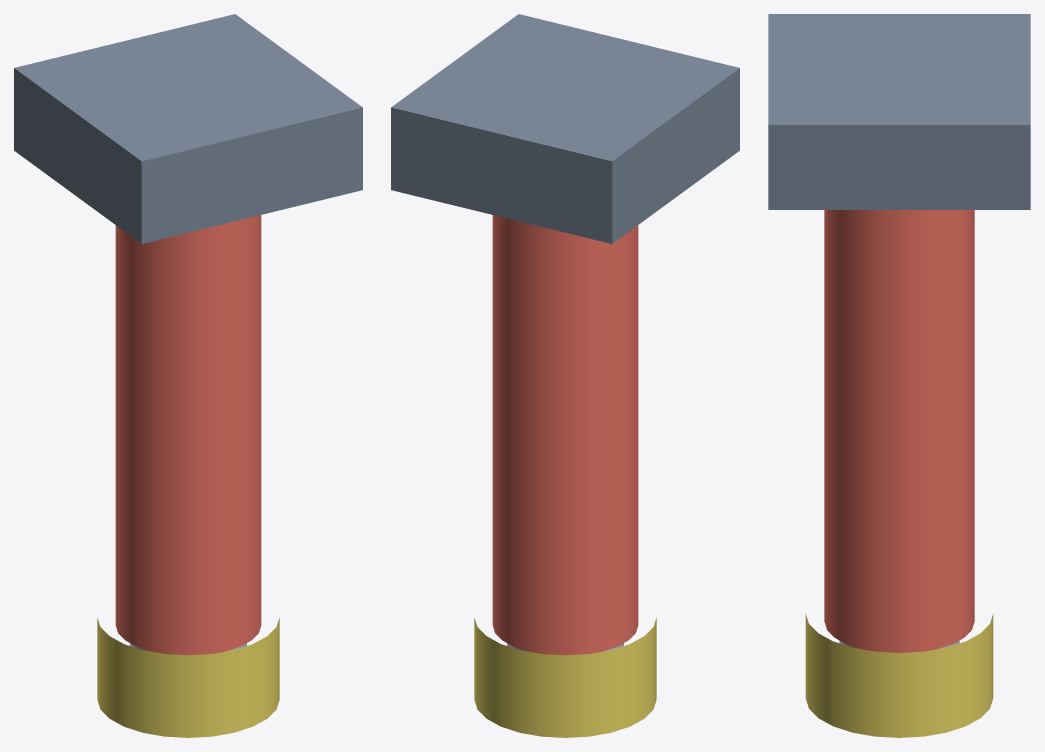
File: pile_foundation_load_capacity.glb
The picture shows the model from 3 angles, left to right: view 1: azimuth 30°, elevation 25°; view 2: azimuth 150°, elevation 25°; view 3: azimuth 270°, elevation 25°; orthographic projection. The views are drawn at different scales.
Visible parts, largest first — view 1: FrictionalSoilShearResistanceInterface, RigidPileCapSuperstructureInterface, ExpandedPileBaseEndBearingBulb; view 2: FrictionalSoilShearResistanceInterface, RigidPileCapSuperstructureInterface, ExpandedPileBaseEndBearingBulb; view 3: FrictionalSoilShearResistanceInterface, RigidPileCapSuperstructureInterface, ExpandedPileBaseEndBearingBulb.
Part boxes in pixels (x1=…): FrictionalSoilShearResistanceInterface: x1=115, y1=215, x2=261, y2=655; RigidPileCapSuperstructureInterface: x1=14, y1=14, x2=362, y2=243; ExpandedPileBaseEndBearingBulb: x1=97, y1=617, x2=279, y2=737; FrictionalSoilShearResistanceInterface: x1=492, y1=215, x2=638, y2=655; RigidPileCapSuperstructureInterface: x1=391, y1=14, x2=739, y2=243; ExpandedPileBaseEndBearingBulb: x1=474, y1=617, x2=656, y2=737; FrictionalSoilShearResistanceInterface: x1=824, y1=210, x2=974, y2=652; RigidPileCapSuperstructureInterface: x1=768, y1=14, x2=1030, y2=209; ExpandedPileBaseEndBearingBulb: x1=805, y1=614, x2=993, y2=737.
Size of the model in its own units: 0.7 by 1.85 by 0.7.
